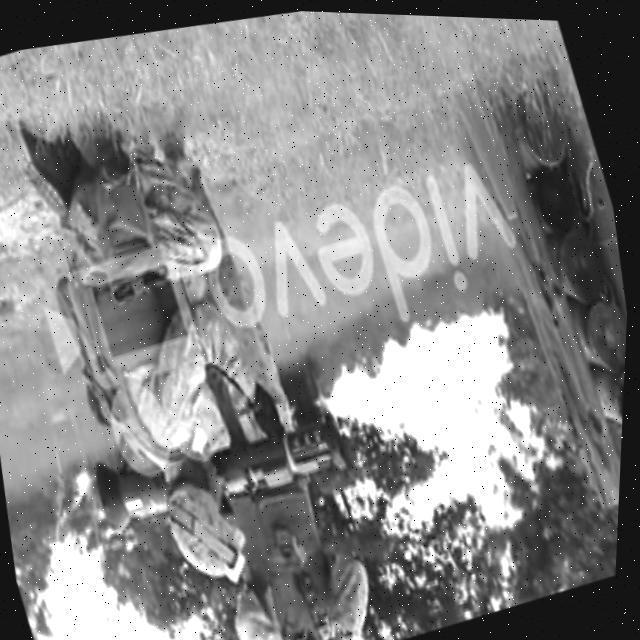rocket: (87, 387, 364, 545)
